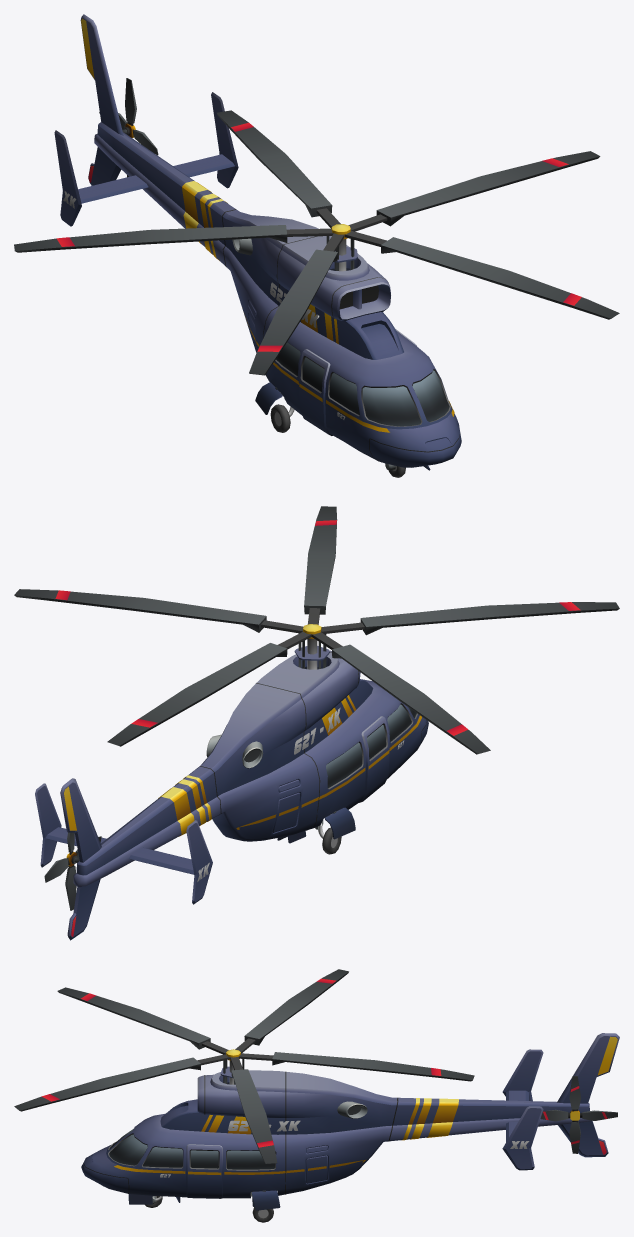
Rendered from Helicopter_1A.fbx.
3 views of the same model, one above another, from view 1: azimuth 30°, elevation 25°; view 2: azimuth 150°, elevation 25°; view 3: azimuth 270°, elevation 25° (orthographic). The views are drawn at different scales.
Visible parts, largest first — view 1: Fuselage_Helicopter_1A, Main_Rotor_1A, Tail_Rotor_1A; view 2: Fuselage_Helicopter_1A, Main_Rotor_1A, Tail_Rotor_1A, Hatch_1A_R.R; view 3: Fuselage_Helicopter_1A, Main_Rotor_1A, Tail_Rotor_1A, Livery_1A, Hatch_1A_R.L.
Boxes of the visible parts, left/top/right/bottom form: Fuselage_Helicopter_1A: left=54, top=14, right=461, bottom=467; Main_Rotor_1A: left=14, top=110, right=619, bottom=375; Tail_Rotor_1A: left=99, top=78, right=158, bottom=177; Fuselage_Helicopter_1A: left=35, top=650, right=428, bottom=940; Main_Rotor_1A: left=14, top=506, right=619, bottom=754; Tail_Rotor_1A: left=44, top=832, right=101, bottom=910; Hatch_1A_R.R: left=324, top=807, right=355, bottom=839; Fuselage_Helicopter_1A: left=81, top=1033, right=619, bottom=1198; Main_Rotor_1A: left=14, top=969, right=474, bottom=1163; Tail_Rotor_1A: left=540, top=1076, right=617, bottom=1153; Livery_1A: left=160, top=1120, right=529, bottom=1177; Hatch_1A_R.L: left=251, top=1190, right=280, bottom=1210.
Size of the model in its own units: 9.93 by 4.15 by 13.06.
